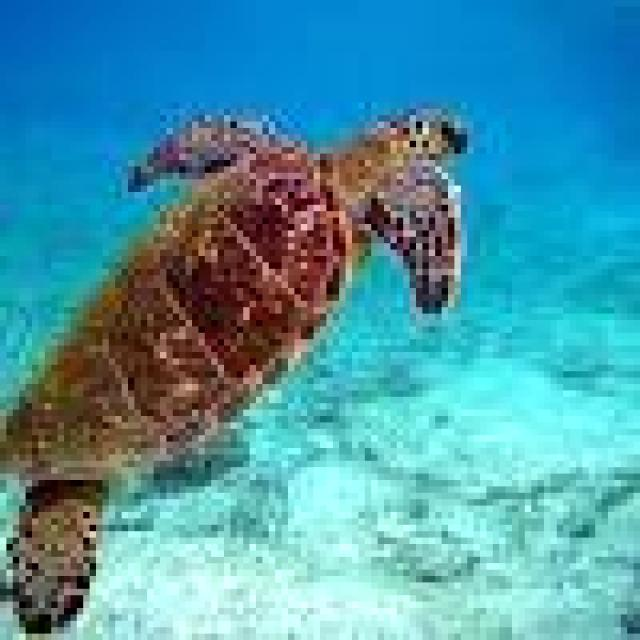Sea turtle: (0, 97, 492, 640)
